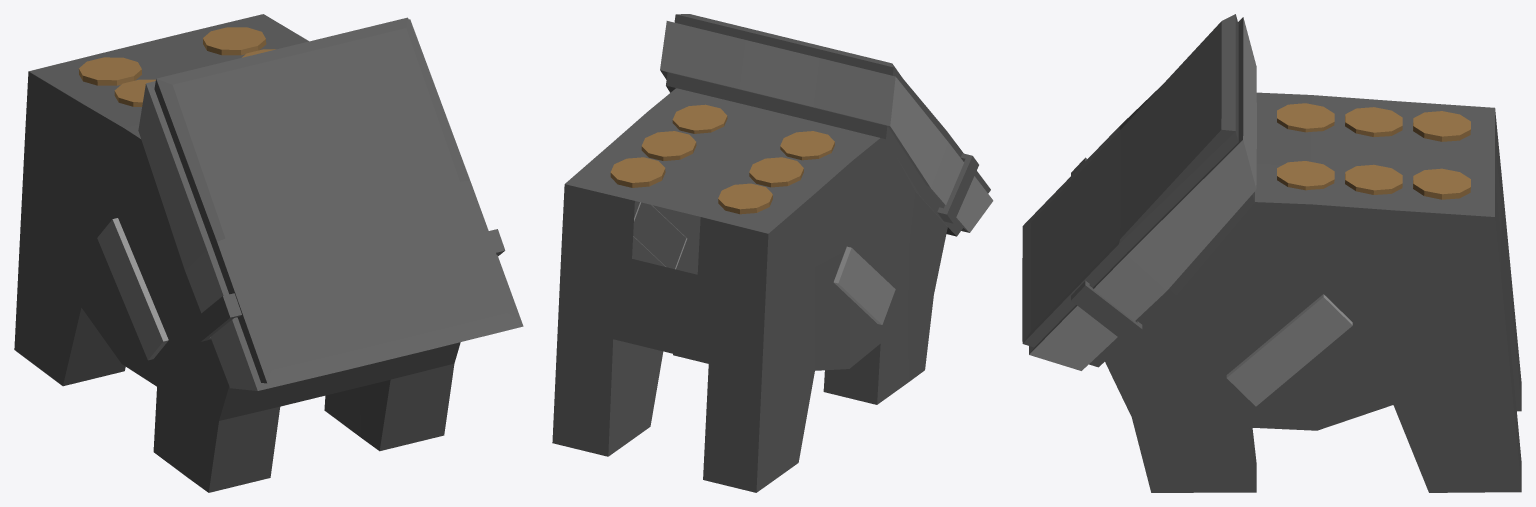
The model's file is russian_Costume.fbx.
3 views of the same model, side by side, from view 1: azimuth 30°, elevation 25°; view 2: azimuth 150°, elevation 25°; view 3: azimuth 270°, elevation 25° (orthographic). The views are drawn at different scales.
Parts seen in each view (by area): view 1: russian_Costume; view 2: russian_Costume; view 3: russian_Costume.
Boxes of the visible parts, x1,y1,x2,y2 form: russian_Costume: (14, 14, 523, 492); russian_Costume: (552, 14, 993, 492); russian_Costume: (1022, 14, 1521, 492).
Bounding box in the file's own units: 1.92 × 2.56 × 3.17.
